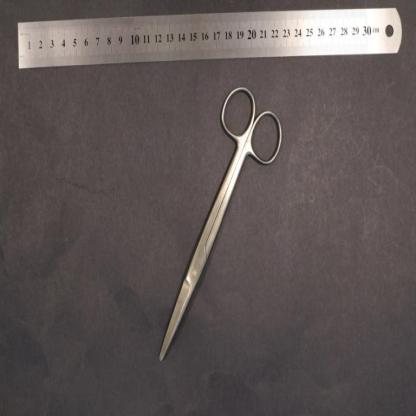Curved Mayo Scissors: (159, 83, 285, 363)
